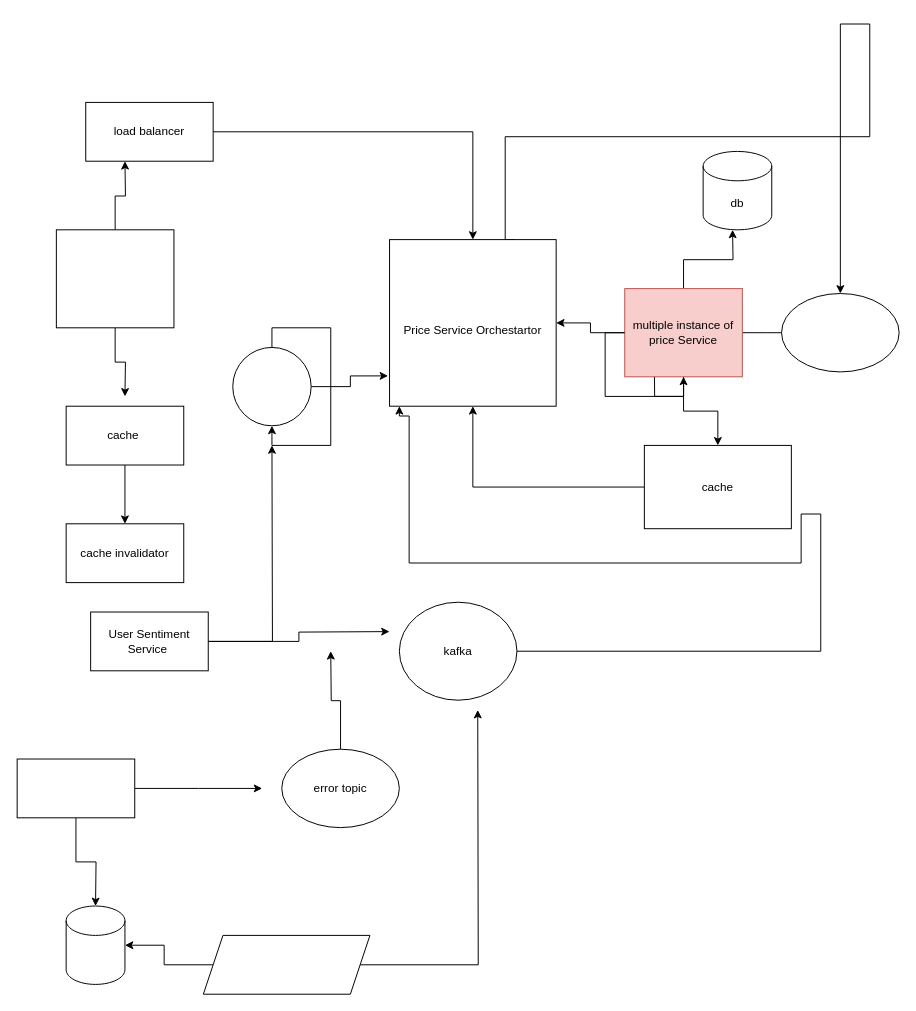
Image size: 916x1011. Some labels were removed from this diagram. Each missing label, with the centre of its shape:
Api GateWay -sso login -https -hpps Rate Limitor: point (114, 278)
Error Handler Service: point (75, 788)
Quartz job: point (286, 964)
response topic: point (271, 386)
topic: point (840, 332)
